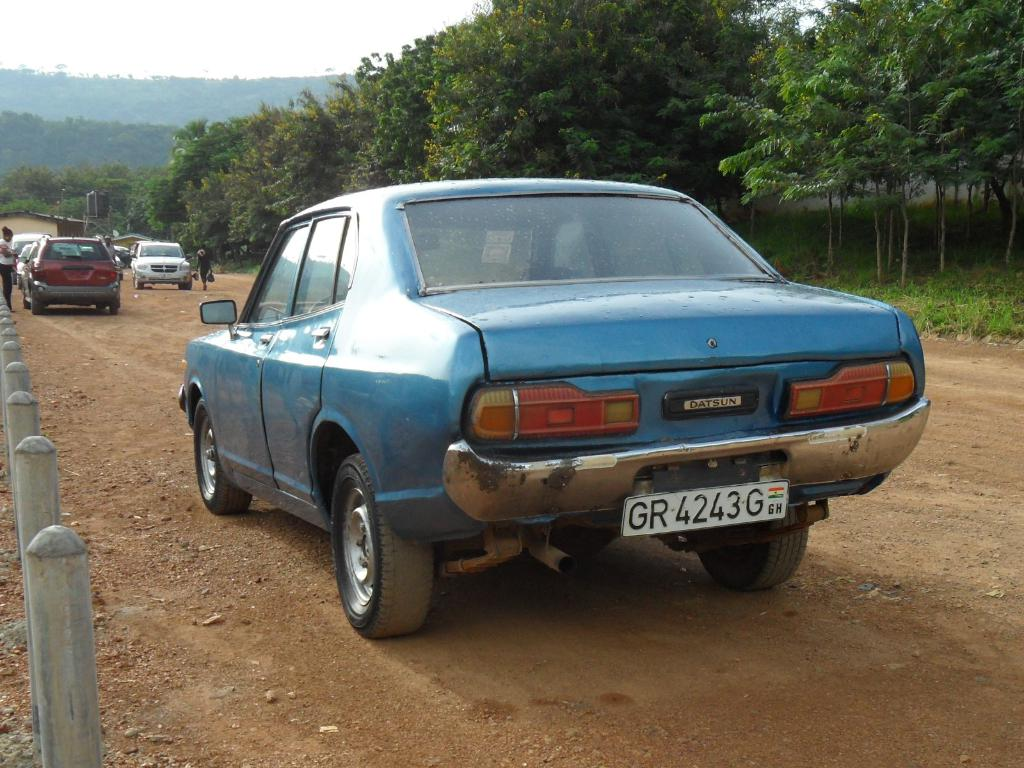cars: (170, 171, 910, 628), (18, 217, 123, 315), (131, 239, 192, 290), (15, 244, 59, 287), (131, 240, 158, 260), (112, 242, 130, 270), (53, 242, 79, 256), (82, 245, 94, 253)
